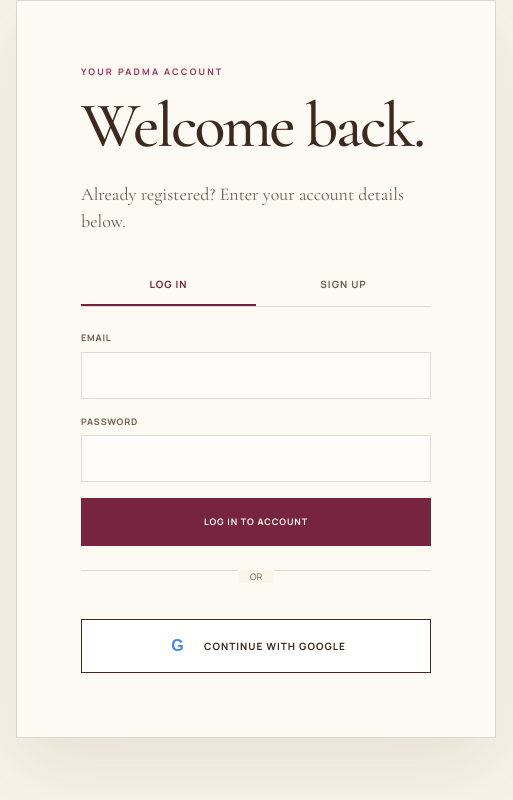
Test: AccountExperience › rejects login when the credentials do not belong to a registered account
Type "unknown@example.com" into the field labelled "Email".
click(256, 375); type("unknown@example.com")  # box [81,352,431,399]
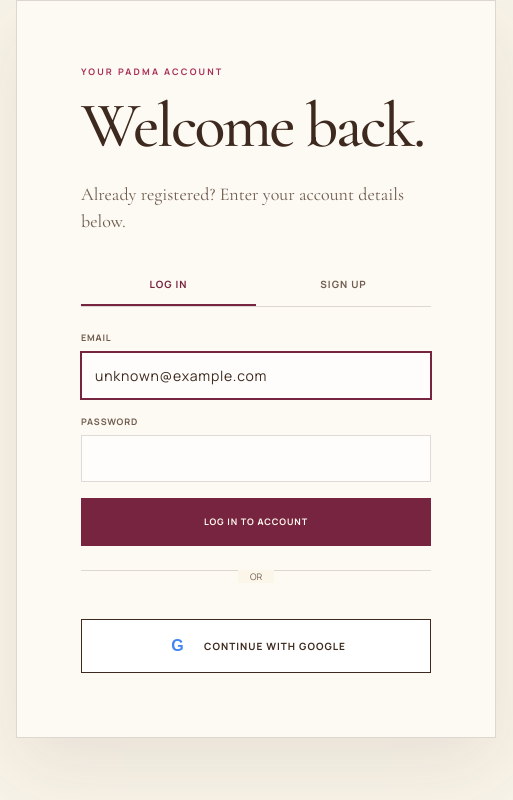
Type "password123" into the password field labelled "Password".
click(256, 459); type("password123")  # box [81,435,431,482]
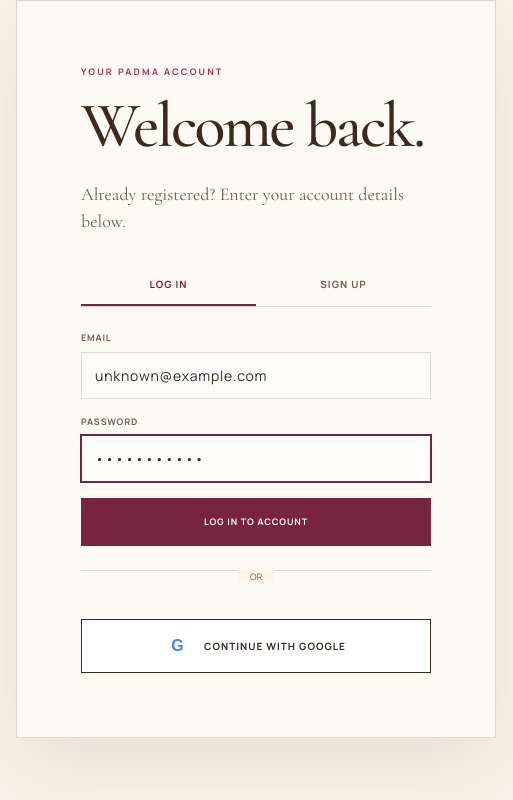
Click the button "Log in to account".
click(256, 522)  # box [81,498,431,546]
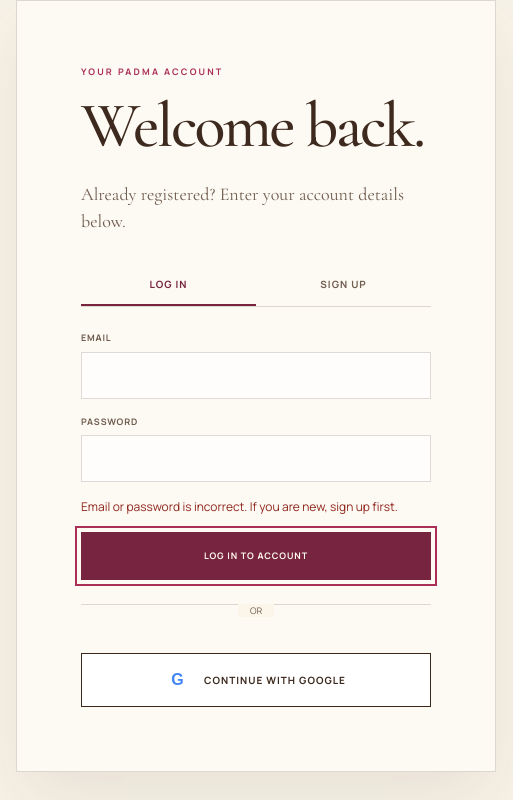
Expected: the message reads "Email or password is incorrect. If you are new, sign up first.", [81,498,398,515]
